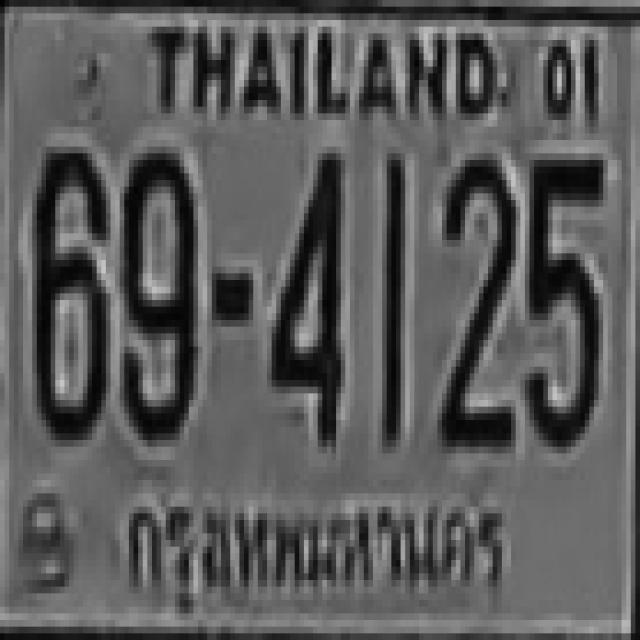1: (380, 150, 403, 437)
2: (440, 153, 513, 440), (442, 154, 511, 414)
4: (267, 147, 341, 440)
5: (520, 153, 599, 440)
6: (30, 143, 104, 437)
9: (120, 147, 193, 433)
Bangkok: (112, 479, 516, 603)
